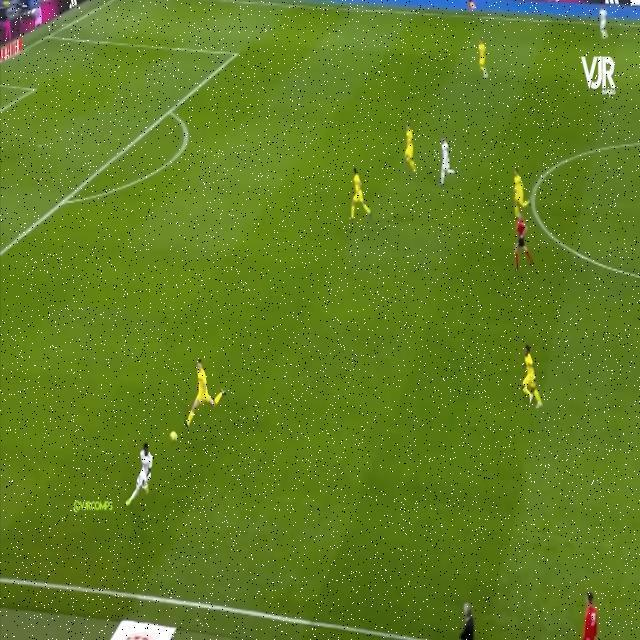ball: (169, 425, 182, 461)
player: (188, 350, 230, 434), (129, 419, 159, 509), (515, 327, 543, 411), (343, 161, 373, 233), (433, 126, 462, 198), (471, 28, 497, 96), (507, 143, 528, 224), (398, 108, 416, 189)
referee: (511, 201, 535, 289)
